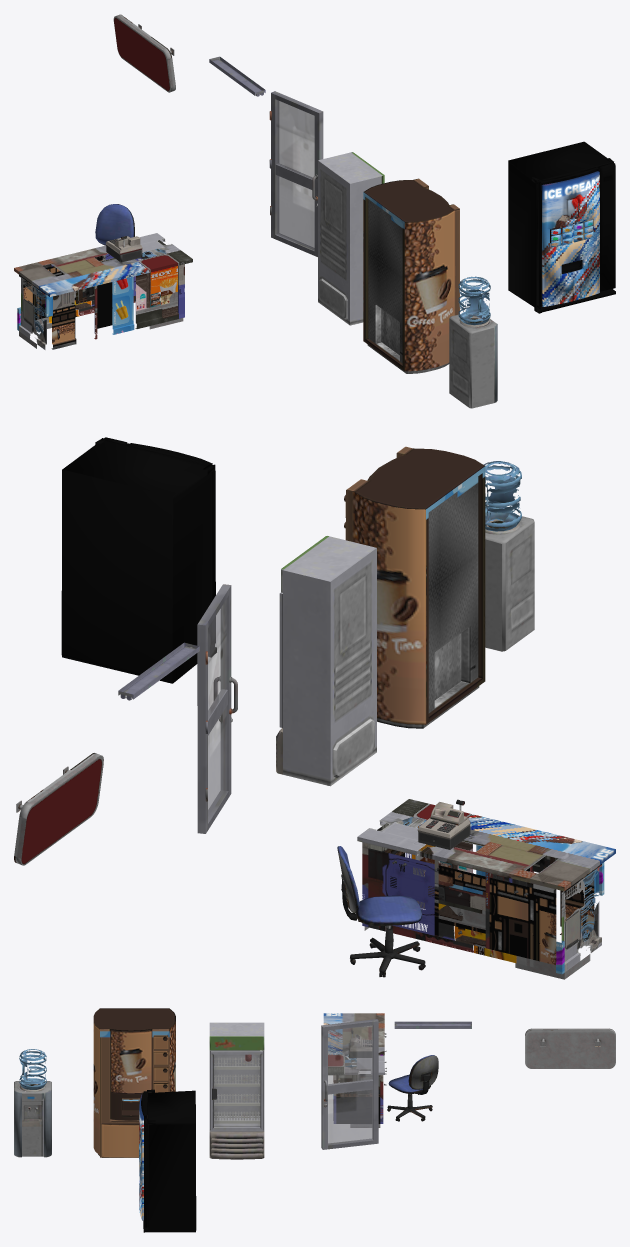
File: mart.fbx
The picture shows the model from 3 angles, top to bottom: view 1: azimuth 30°, elevation 25°; view 2: azimuth 150°, elevation 25°; view 3: azimuth 270°, elevation 25°; orthographic projection. The views are drawn at different scales.
Parts seen in each view (by area): view 1: Coffee, Ice_Cream_machine, Countertop_1, Freezer_1, Door_1, WaterDispenser_1, Brand_1__3_, Chair_2, Maquina_1, Lamp_1; view 2: Ice_Cream_machine, Coffee, Countertop_1, Freezer_1, WaterDispenser_1, Door_1, Brand_1__3_, Chair_2, Maquina_1, Lamp_1; view 3: Coffee, Ice_Cream_machine, Door_1, Freezer_1, Countertop_1, Freezer_door_1, Brand_1__3_, WaterDispenser_1, Chair_2, Lamp_1, Maquina_1.
Part boxes in pixels (left/top/right/bottom): Coffee: left=363, top=178, right=459, bottom=373; Ice_Cream_machine: left=508, top=141, right=615, bottom=313; Countertop_1: left=14, top=233, right=192, bottom=349; Freezer_1: left=318, top=152, right=384, bottom=325; Door_1: left=269, top=91, right=323, bottom=256; WaterDispenser_1: left=449, top=276, right=497, bottom=408; Brand_1__3_: left=113, top=14, right=175, bottom=92; Chair_2: left=95, top=204, right=134, bottom=257; Maquina_1: left=105, top=236, right=142, bottom=262; Lamp_1: left=209, top=56, right=265, bottom=96; Ice_Cream_machine: left=61, top=437, right=216, bottom=683; Coffee: left=344, top=446, right=485, bottom=728; Countertop_1: left=357, top=799, right=615, bottom=979; Freezer_1: left=276, top=536, right=376, bottom=786; WaterDispenser_1: left=483, top=461, right=534, bottom=651; Door_1: left=197, top=584, right=237, bottom=833; Brand_1__3_: left=14, top=753, right=103, bottom=865; Chair_2: left=337, top=846, right=425, bottom=977; Maquina_1: left=417, top=799, right=470, bottom=849; Lamp_1: left=118, top=642, right=199, bottom=700; Coffee: left=93, top=1008, right=175, bottom=1157; Ice_Cream_machine: left=139, top=1089, right=196, bottom=1232; Door_1: left=321, top=1019, right=378, bottom=1149; Freezer_1: left=209, top=1022, right=264, bottom=1159; Countertop_1: left=323, top=1013, right=386, bottom=1127; Freezer_door_1: left=210, top=1051, right=263, bottom=1130; Brand_1__3_: left=525, top=1028, right=615, bottom=1068; WaterDispenser_1: left=14, top=1049, right=51, bottom=1157; Chair_2: left=387, top=1055, right=438, bottom=1121; Lamp_1: left=394, top=1021, right=471, bottom=1028; Maquina_1: left=348, top=1030, right=371, bottom=1057.
Size of the model in its own units: 757 by 288 by 1012.
Materials: 4 (4 with a texture image).
